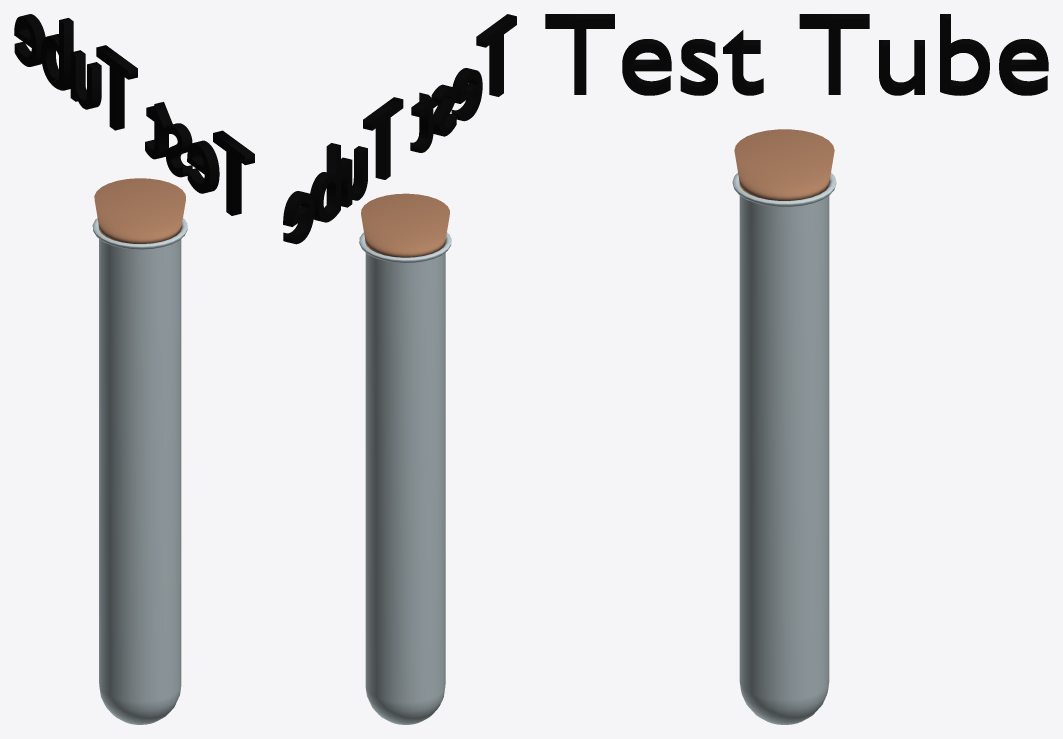
3 renders of one model, left to right at view 1: azimuth 30°, elevation 25°; view 2: azimuth 150°, elevation 25°; view 3: azimuth 270°, elevation 25°, orthographic. The views are drawn at different scales.
Visible parts, largest first — view 1: Cylinder, Text, Cylinder.001; view 2: Cylinder, Text, Cylinder.001; view 3: Cylinder, Text, Cylinder.001.
Boxes of the visible parts, x1,y1,x2,y2 form: Cylinder: [92, 218, 187, 724]; Text: [14, 14, 254, 215]; Cylinder.001: [94, 178, 185, 243]; Cylinder: [359, 232, 451, 724]; Text: [283, 14, 516, 244]; Cylinder.001: [361, 193, 449, 257]; Cylinder: [732, 172, 836, 724]; Text: [545, 14, 1048, 95]; Cylinder.001: [734, 129, 834, 200].
Size of the model in its own units: 0.367 by 2.76 by 1.79.
